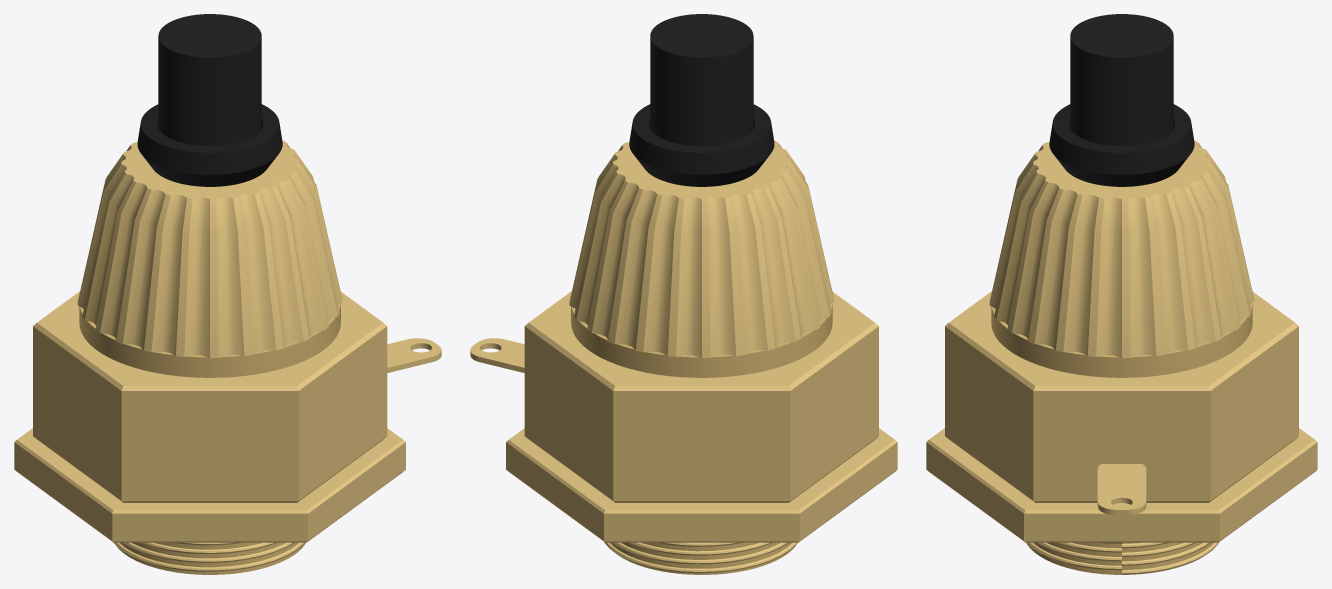
The model's file is gland.fbx.
3 renders of one model, left to right at view 1: azimuth 30°, elevation 25°; view 2: azimuth 150°, elevation 25°; view 3: azimuth 270°, elevation 25°, orthographic.
Parts seen in each view (by area): view 1: body, dome_nut, locknut, cable, seal, shoulder, thread, earth_tag, thread_0, thread_1, thread_2; view 2: body, dome_nut, locknut, cable, seal, shoulder, thread, earth_tag, thread_0, thread_1, thread_2; view 3: body, dome_nut, locknut, cable, seal, shoulder, thread, earth_tag, thread_0, thread_1, thread_2.
Boxes of the visible parts, bbox=[...] form: body: bbox=[33, 291, 387, 502]; dome_nut: bbox=[77, 140, 342, 357]; locknut: bbox=[14, 428, 405, 542]; cable: bbox=[158, 14, 261, 145]; seal: bbox=[137, 104, 282, 186]; shoulder: bbox=[79, 303, 340, 377]; thread: bbox=[116, 542, 305, 574]; earth_tag: bbox=[387, 338, 441, 372]; thread_0: bbox=[114, 542, 304, 571]; thread_1: bbox=[123, 542, 294, 562]; thread_2: bbox=[140, 542, 276, 553]; body: bbox=[524, 291, 878, 502]; dome_nut: bbox=[569, 140, 834, 357]; locknut: bbox=[506, 428, 897, 542]; cable: bbox=[650, 14, 753, 145]; seal: bbox=[629, 104, 774, 186]; shoulder: bbox=[571, 303, 832, 377]; thread: bbox=[610, 542, 795, 574]; earth_tag: bbox=[470, 338, 524, 372]; thread_0: bbox=[604, 542, 797, 573]; thread_1: bbox=[613, 542, 788, 564]; thread_2: bbox=[628, 542, 772, 555]; body: bbox=[945, 291, 1298, 502]; dome_nut: bbox=[989, 140, 1254, 357]; locknut: bbox=[926, 428, 1317, 542]; cable: bbox=[1070, 14, 1173, 145]; seal: bbox=[1049, 104, 1194, 186]; shoulder: bbox=[991, 303, 1252, 377]; thread: bbox=[1026, 542, 1213, 574]; earth_tag: bbox=[1097, 464, 1146, 514]; thread_0: bbox=[1027, 542, 1218, 574]; thread_1: bbox=[1038, 542, 1210, 565]; thread_2: bbox=[1056, 542, 1195, 557].
Size of the model in its own units: 0.1335 by 0.17 by 0.1212.
